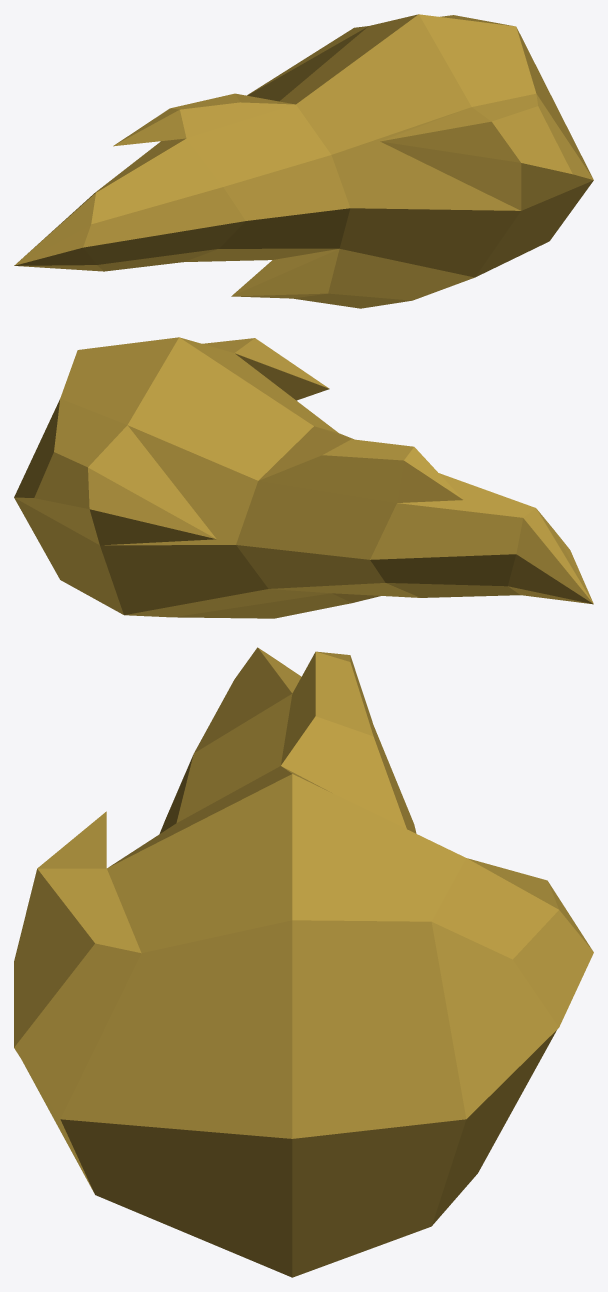
The model's file is fire_ball01.fbx.
The picture shows the model from 3 angles, top to bottom: view 1: azimuth 30°, elevation 25°; view 2: azimuth 150°, elevation 25°; view 3: azimuth 270°, elevation 25°; orthographic projection. The views are drawn at different scales.
Visible parts, largest first — view 1: fire_ball; view 2: fire_ball; view 3: fire_ball.
Part boxes in pixels (x1,y1,x2,y2): fire_ball: (14,14,593,308); fire_ball: (14,337,593,618); fire_ball: (14,647,593,1277).
Bounding box in the file's own units: 46.5 × 22 × 25.
